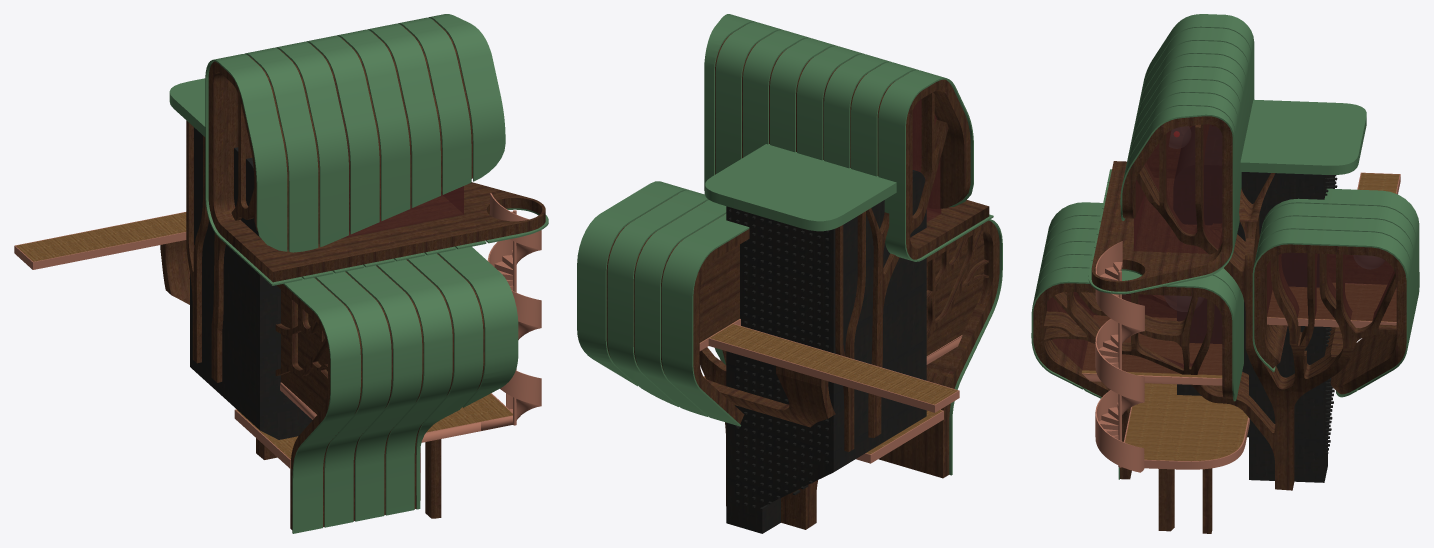
File: redwoods.glb
The picture shows the model from 3 angles, left to right: view 1: azimuth 30°, elevation 25°; view 2: azimuth 150°, elevation 25°; view 3: azimuth 270°, elevation 25°; orthographic projection. The views are drawn at different scales.
Parts seen in each view (by area): view 1: Group024, Line037, Line038, SpiralStair001, REDWOODS, Line041, Line042; view 2: Group024, Line037, Line038, REDWOODS, Line041, Line039, Line042; view 3: Group024, Line038, Line037, Line042, SpiralStair001, Line036, Line040, REDWOODS, Line039, Line041.
Part boxes in pixels (box(x1,y1,x2,y2)): Group024: box(16, 14, 548, 533); Line037: box(190, 127, 312, 439); Line038: box(160, 95, 441, 518); SpiralStair001: box(487, 193, 541, 425); REDWOODS: box(14, 212, 512, 468); Line041: box(281, 290, 327, 414); Line042: box(343, 186, 463, 238); Group024: box(577, 14, 1002, 510); Line037: box(726, 170, 927, 533); Line038: box(699, 92, 988, 529); REDWOODS: box(699, 319, 962, 463); Line041: box(926, 233, 984, 355); Line039: box(699, 244, 739, 342); Line042: box(912, 99, 941, 221); Group024: box(1031, 14, 1419, 479); Line038: box(1043, 124, 1396, 533); Line037: box(1150, 125, 1334, 482); Line042: box(1134, 124, 1222, 253); SpiralStair001: box(1095, 241, 1144, 472); Line036: box(1267, 252, 1396, 321); Line040: box(1047, 292, 1222, 375); REDWOODS: box(1082, 172, 1400, 469); Line039: box(1329, 254, 1393, 284); Line041: box(1074, 292, 1176, 317).
Bounding box in the file's own units: 13.45 × 16.11 × 13.04.
Materials: 9 (4 with a texture image).
